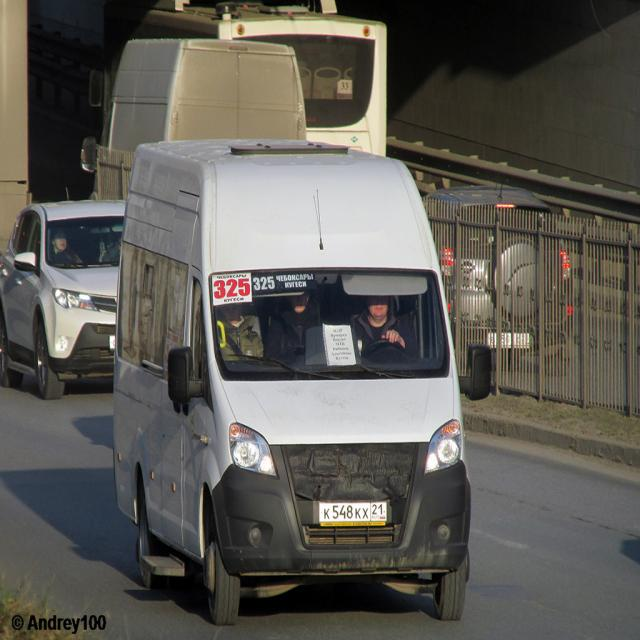number-of-bus: (212, 270, 254, 303), (252, 276, 279, 295)
